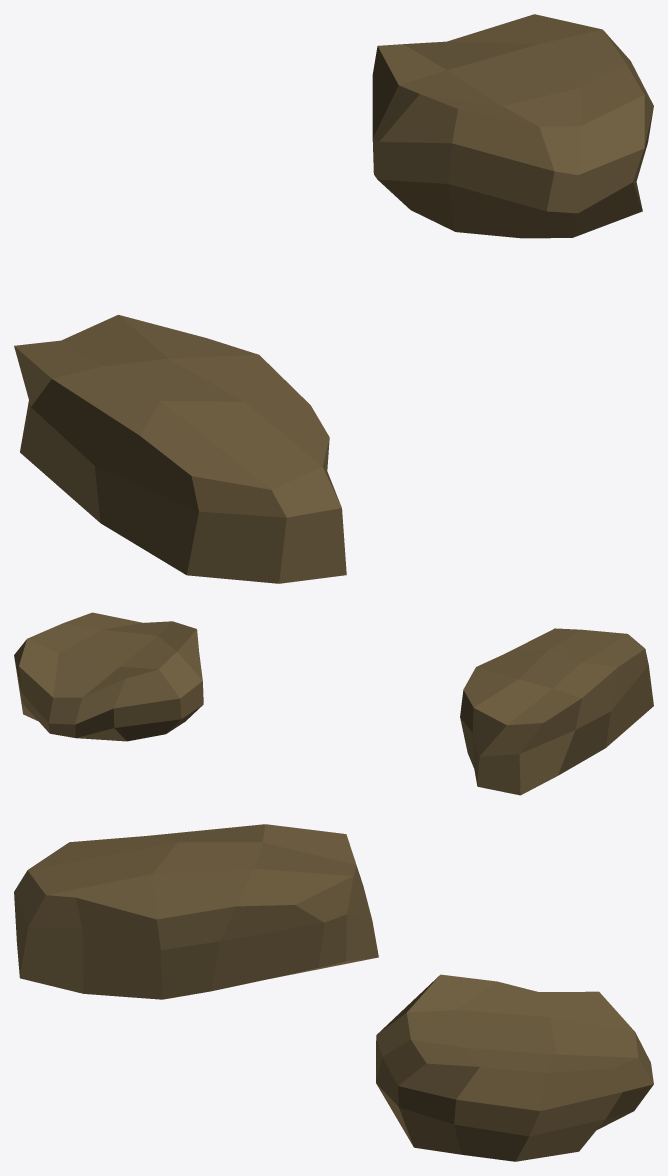
Rendered from two rocks.FBX.
3 renders of one model, top to bottom at view 1: azimuth 30°, elevation 25°; view 2: azimuth 150°, elevation 25°; view 3: azimuth 270°, elevation 25°, orthographic. The views are drawn at different scales.
Parts seen in each view (by area): view 1: DVD Media.001|Rock_16|Dupli|9; view 2: DVD Media.001|Rock_16|Dupli|9; view 3: DVD Media.001|Rock_16|Dupli|9.
Boxes of the visible parts, x1,y1,x2,y2 form: DVD Media.001|Rock_16|Dupli|9: (14, 14, 653, 583); DVD Media.001|Rock_16|Dupli|9: (14, 612, 653, 795); DVD Media.001|Rock_16|Dupli|9: (14, 824, 653, 1161).
Size of the model in its own units: 35.03 by 8.85 by 31.65.
